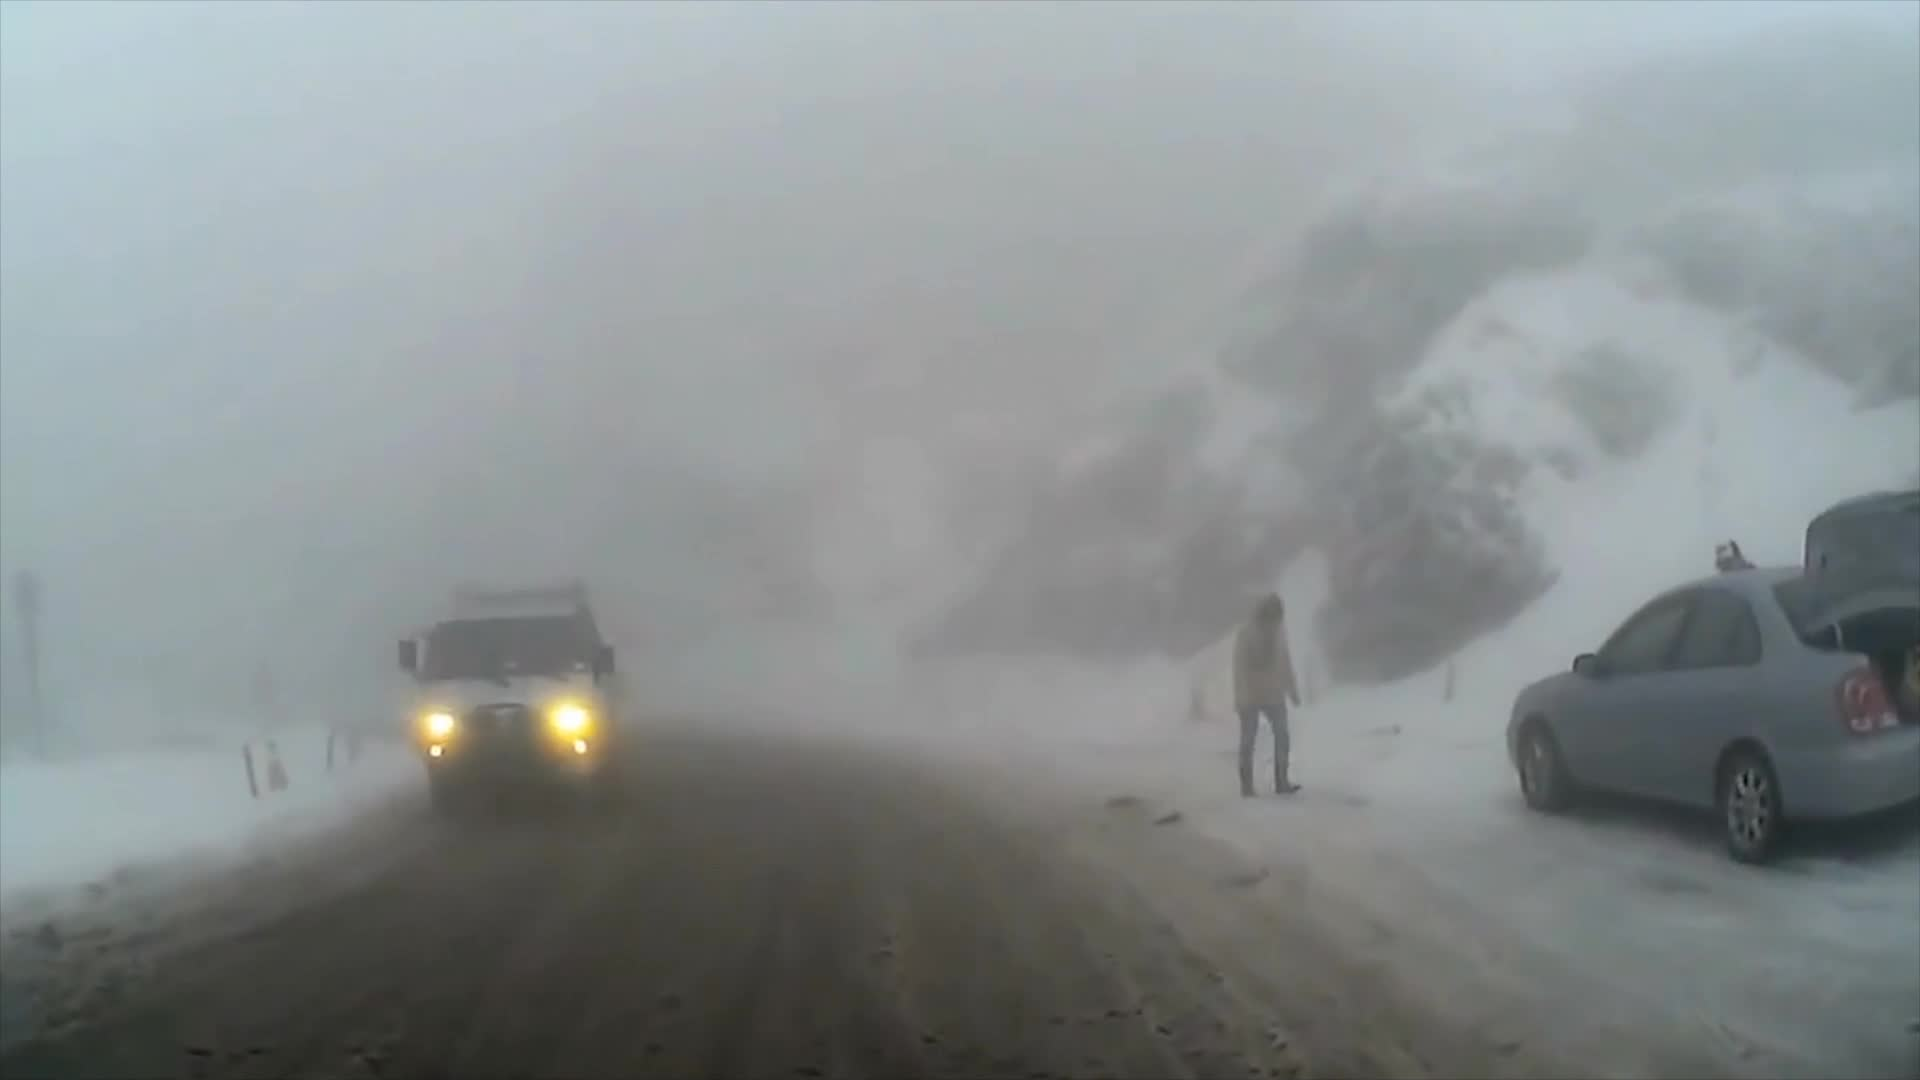pedestrian: (1230, 587, 1303, 798)
vehicle: (1502, 483, 1920, 870), (394, 585, 621, 829)
